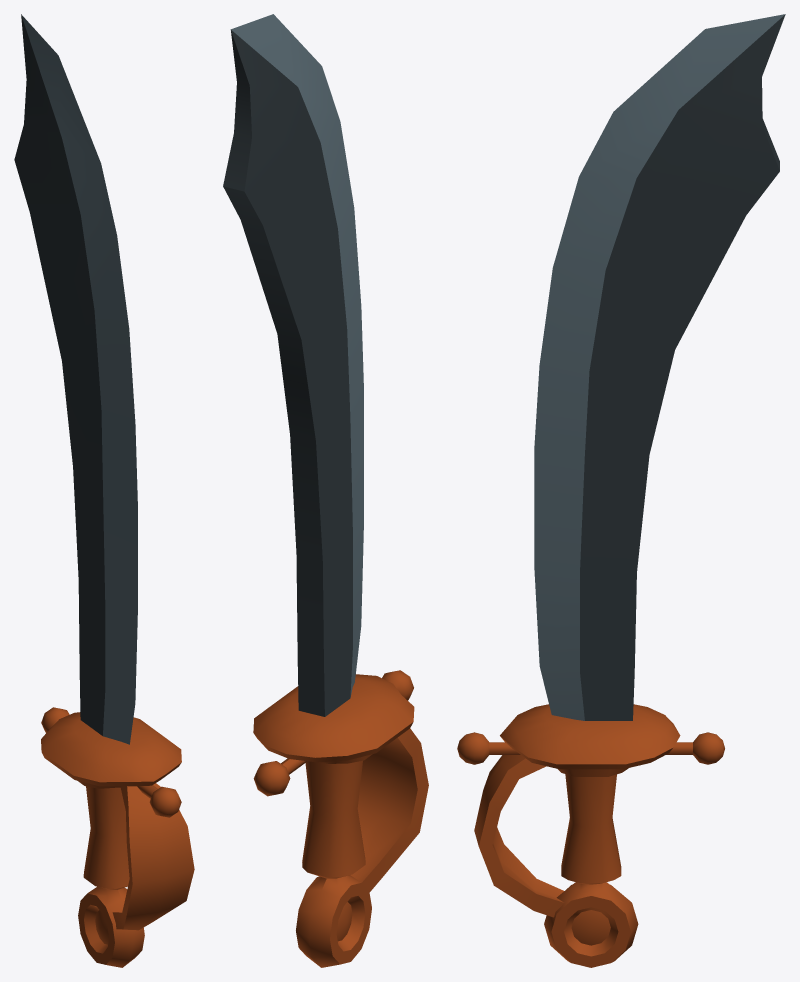
Rendered from scimitar.obj.
3 views of the same model, side by side, from view 1: azimuth 30°, elevation 25°; view 2: azimuth 150°, elevation 25°; view 3: azimuth 270°, elevation 25° (orthographic). The views are drawn at different scales.
Parts seen in each view (by area): view 1: scimitar_Cylinder.025; view 2: scimitar_Cylinder.025; view 3: scimitar_Cylinder.025.
Boxes of the visible parts, left/top/right/bottom form: scimitar_Cylinder.025: left=14, top=14, right=194, bottom=967; scimitar_Cylinder.025: left=223, top=14, right=428, bottom=967; scimitar_Cylinder.025: left=457, top=14, right=785, bottom=967.
Size of the model in its own units: 0.2146 by 1.68 by 0.5262.
